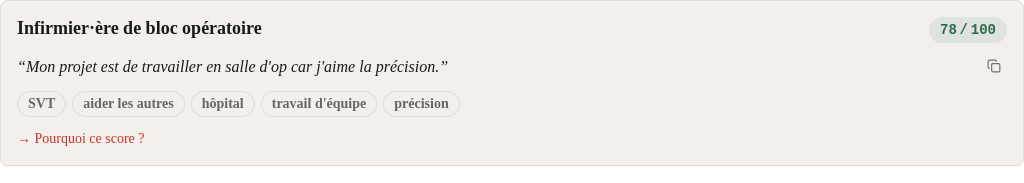
AC5 — tap-to-copy › appelle navigator.clipboard.writeText et affiche le toast
Click the button named "copier la phrase" at (994, 66), box [981,55,1007,77]
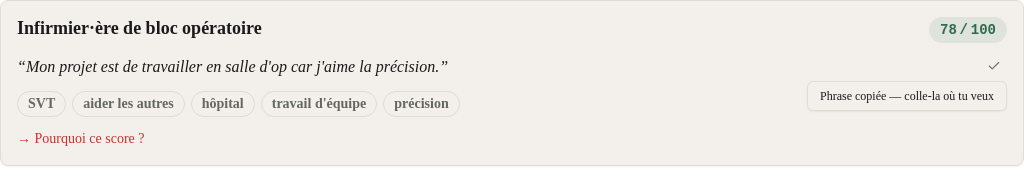
expect the message shows "Phrase copiée": met, box [820,89,994,103]
